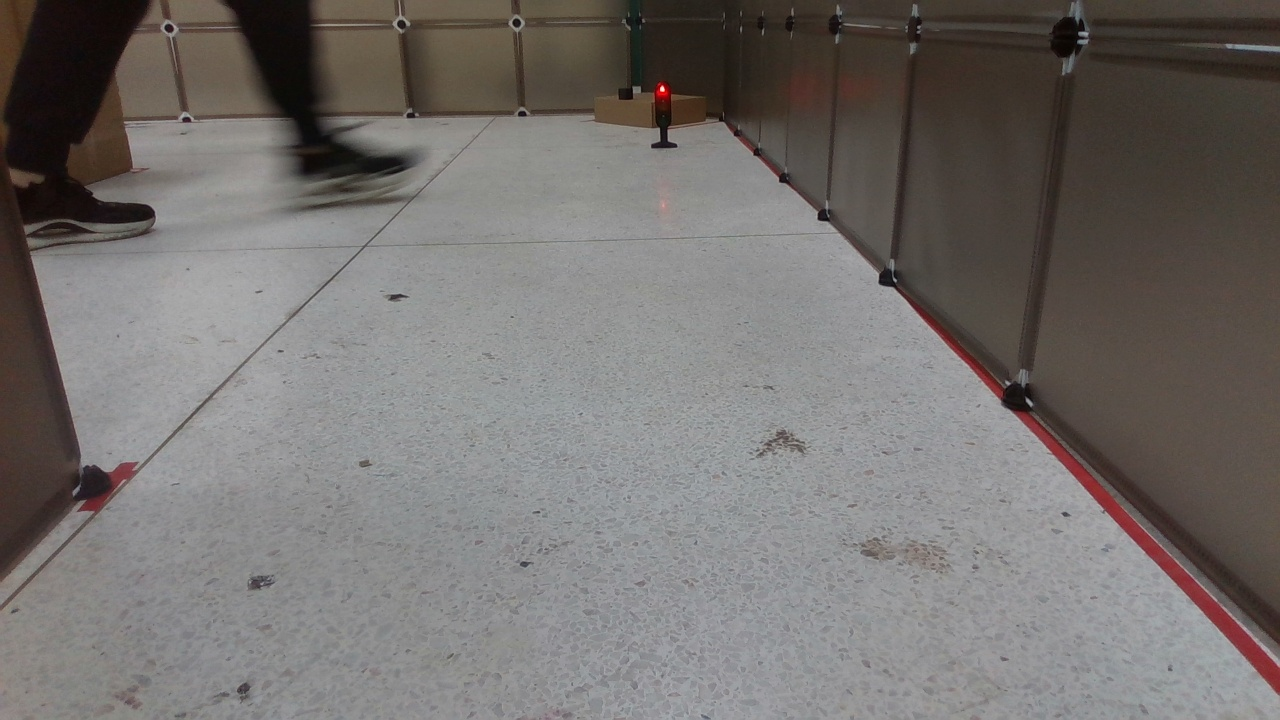Red traffic light: (652, 84, 678, 150)
